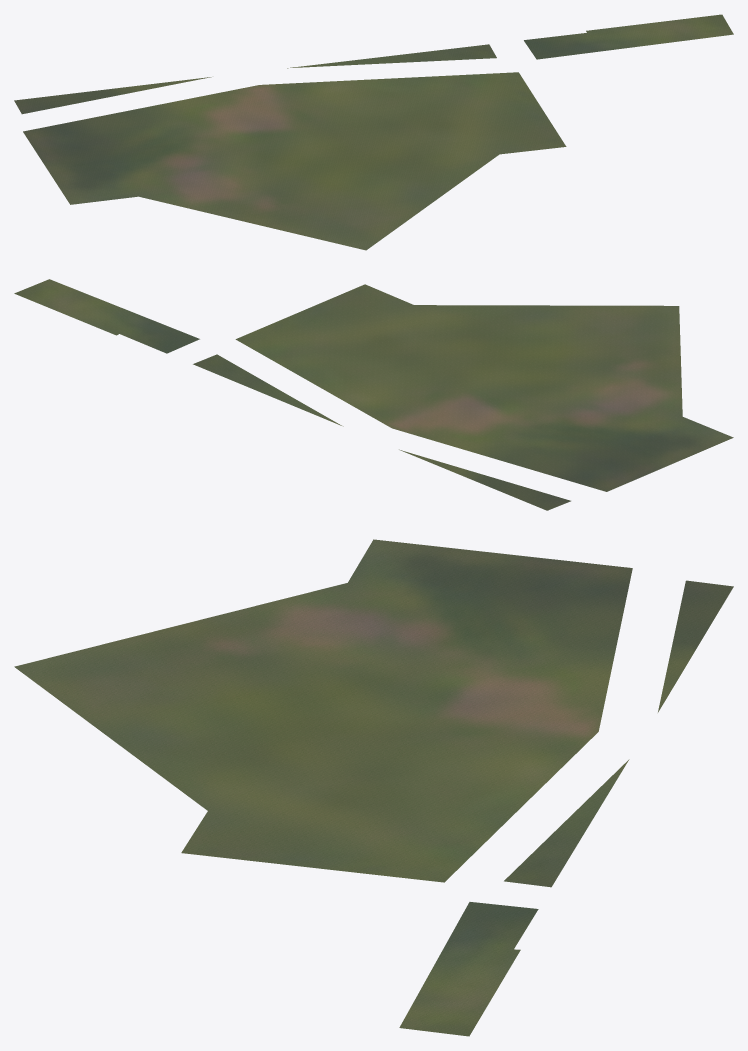
3 renders of one model, top to bottom at view 1: azimuth 30°, elevation 25°; view 2: azimuth 150°, elevation 25°; view 3: azimuth 270°, elevation 25°, orthographic. The views are drawn at different scales.
Size of the model in its own units: 221 by 0.00337 by 135.
1 material, 1 textured.
